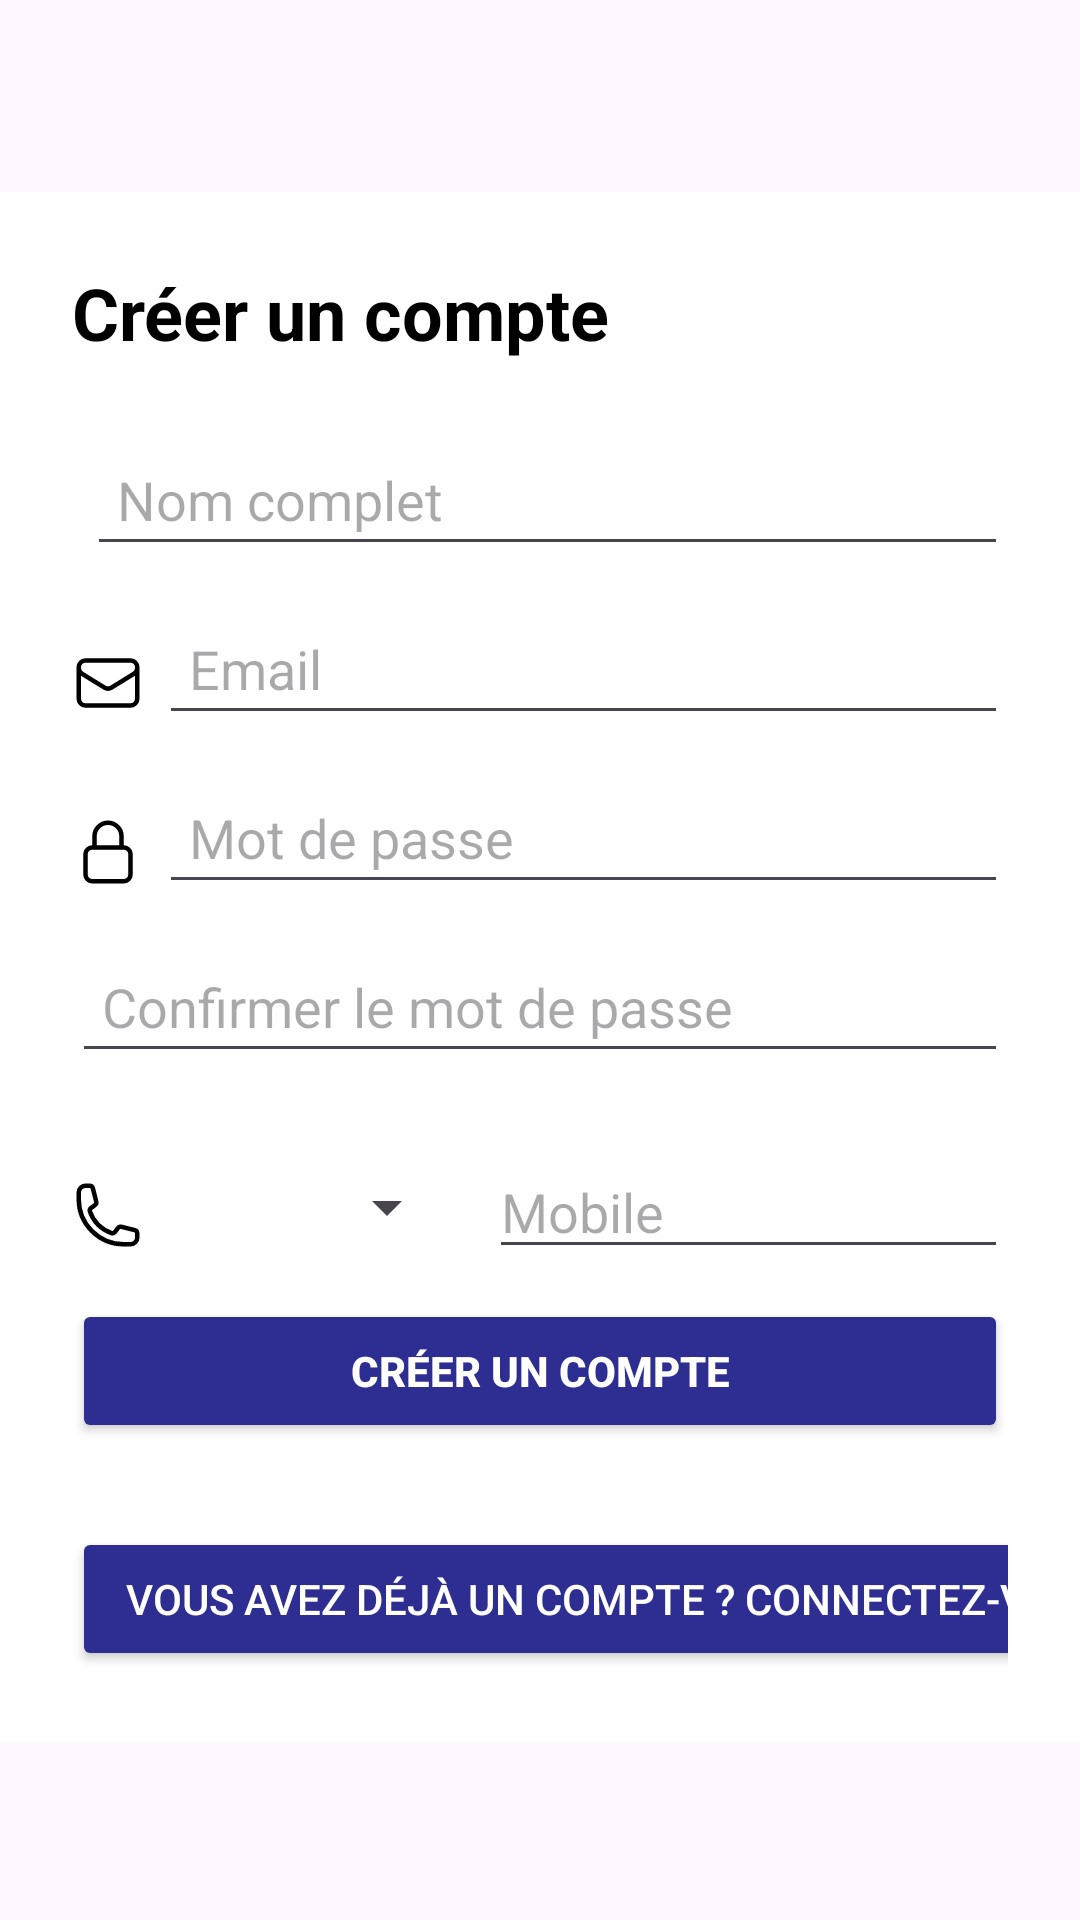

Locate icon controls on the screen. Image size 1080x1920, boxes as (x1, y1, x2, y2).
lock: (83, 820, 133, 884)
phone: (76, 1183, 140, 1247)
